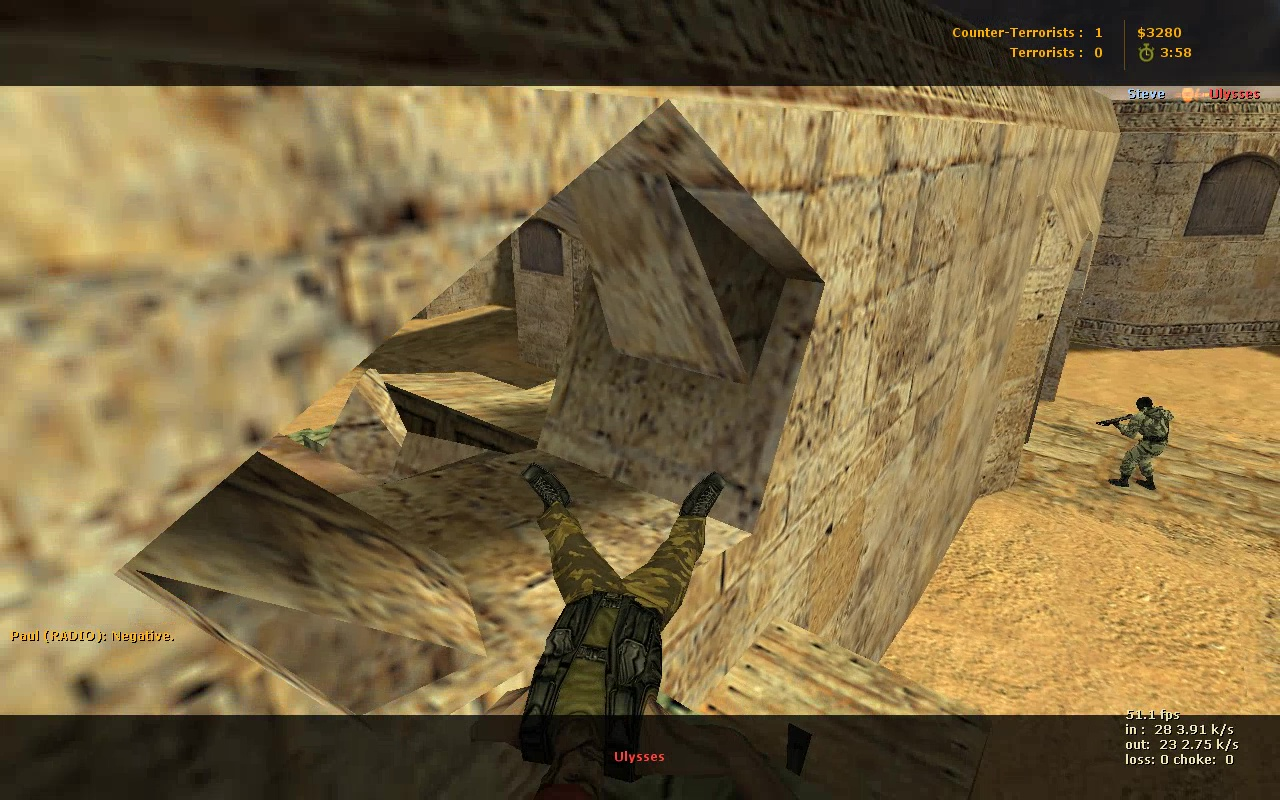dead: (510, 455, 726, 790)
